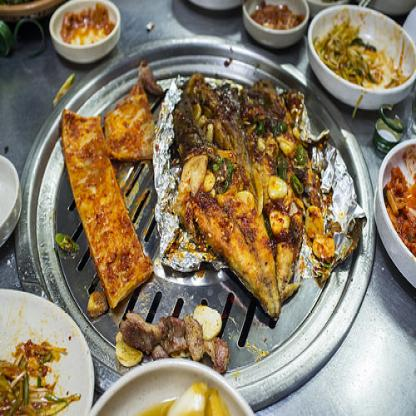Peixe: (158, 81, 393, 306)
